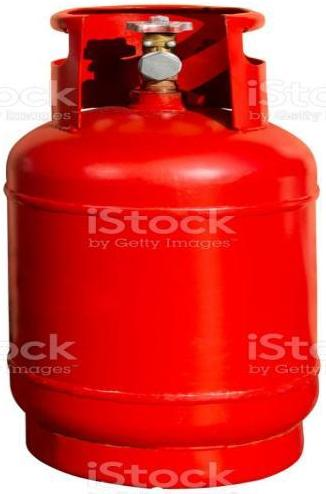cylinder: (0, 1, 326, 494)
